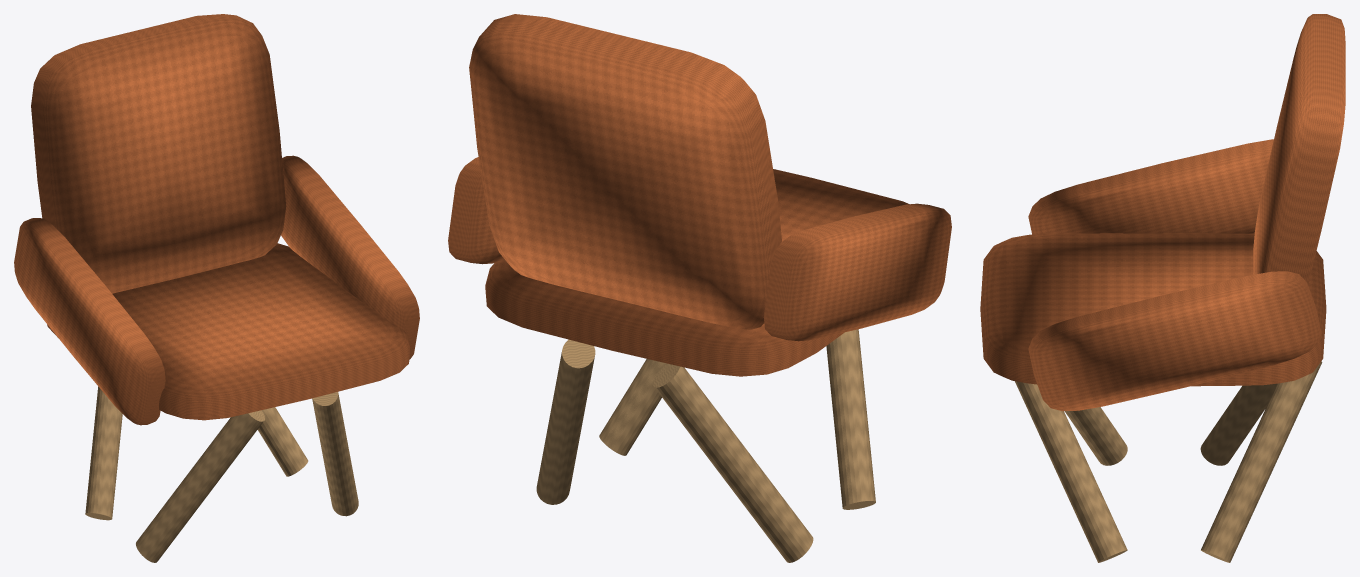
3 renders of one model, left to right at view 1: azimuth 30°, elevation 25°; view 2: azimuth 150°, elevation 25°; view 3: azimuth 270°, elevation 25°, orthographic. The views are drawn at different scales.
Parts seen in each view (by area): view 1: 2 backrest, 1 seat, 3 left_armrest, 4 right_armrest, 6 front_left_leg, 8 back_left_leg, 7 front_right_leg, 9 back_right_leg; view 2: 2 backrest, 1 seat, 3 left_armrest, 8 back_left_leg, 6 front_left_leg, 9 back_right_leg, 4 right_armrest, 7 front_right_leg; view 3: 4 right_armrest, 1 seat, 2 backrest, 3 left_armrest, 9 back_right_leg, 7 front_right_leg, 8 back_left_leg, 6 front_left_leg.
Boxes of the visible parts, x1,y1,x2,y2 form: 2 backrest: (31,14,286,293); 1 seat: (47,243,410,420); 3 left_armrest: (14,218,165,425); 4 right_armrest: (281,155,419,359); 6 front_left_leg: (136,410,264,562); 8 back_left_leg: (85,386,122,520); 7 front_right_leg: (312,392,358,516); 9 back_right_leg: (257,407,308,476); 2 backrest: (469,14,781,329); 1 seat: (485,169,909,376); 3 left_armrest: (763,203,951,341); 8 back_left_leg: (653,363,813,562); 6 front_left_leg: (826,329,875,509); 9 back_right_leg: (536,339,595,504); 4 right_armrest: (448,157,503,264); 7 front_right_leg: (599,359,666,455); 4 right_armrest: (1028,271,1321,411); 1 seat: (980,233,1326,386); 2 backrest: (1253,14,1345,284); 3 left_armrest: (1028,139,1273,234); 9 back_right_leg: (1201,361,1322,562); 7 front_right_leg: (1014,381,1127,562); 8 back_left_leg: (1200,383,1276,465); 6 front_left_leg: (1064,407,1127,465).
Bounding box in the file's own units: 0.68 × 1 × 0.72.
3 materials, 2 textured.
